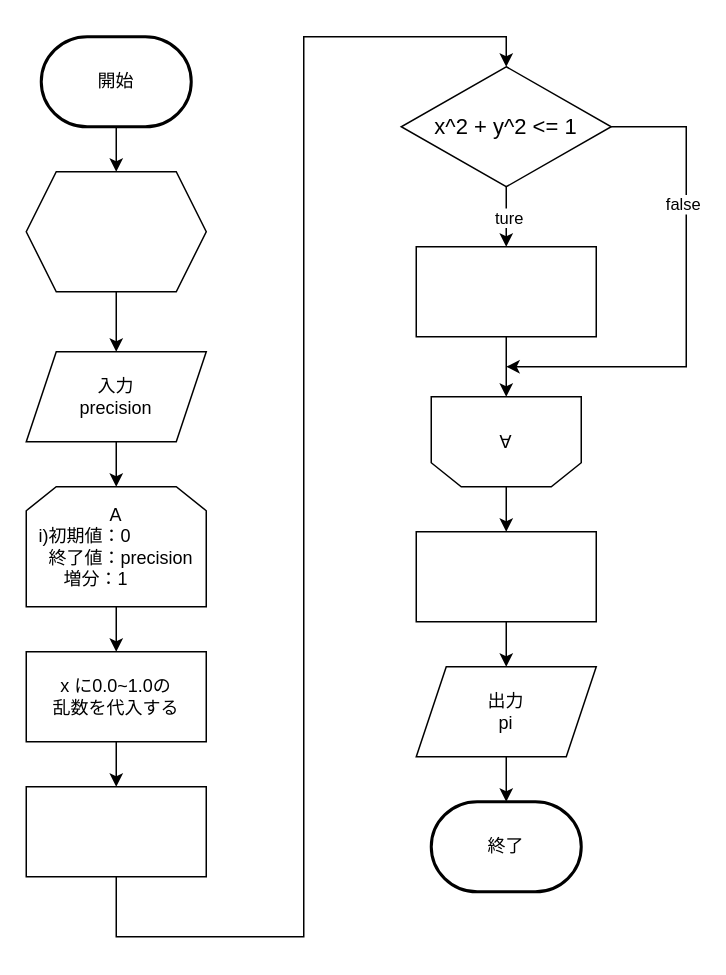
The diagram is 726 pixels wide and 975 high, and some of its shapes have lost their labels. The box of each missing label's shape, as (x1, y1, x2, y2) in pixels:
count ← count + 1: (415, 245, 596, 337)
pi ← 4 * precision / count: (415, 530, 596, 622)
y に0.0~1.0の 乱数を代入する: (25, 785, 206, 877)
整数型 count, precision 実数型 pi, x, y: (25, 170, 206, 292)
